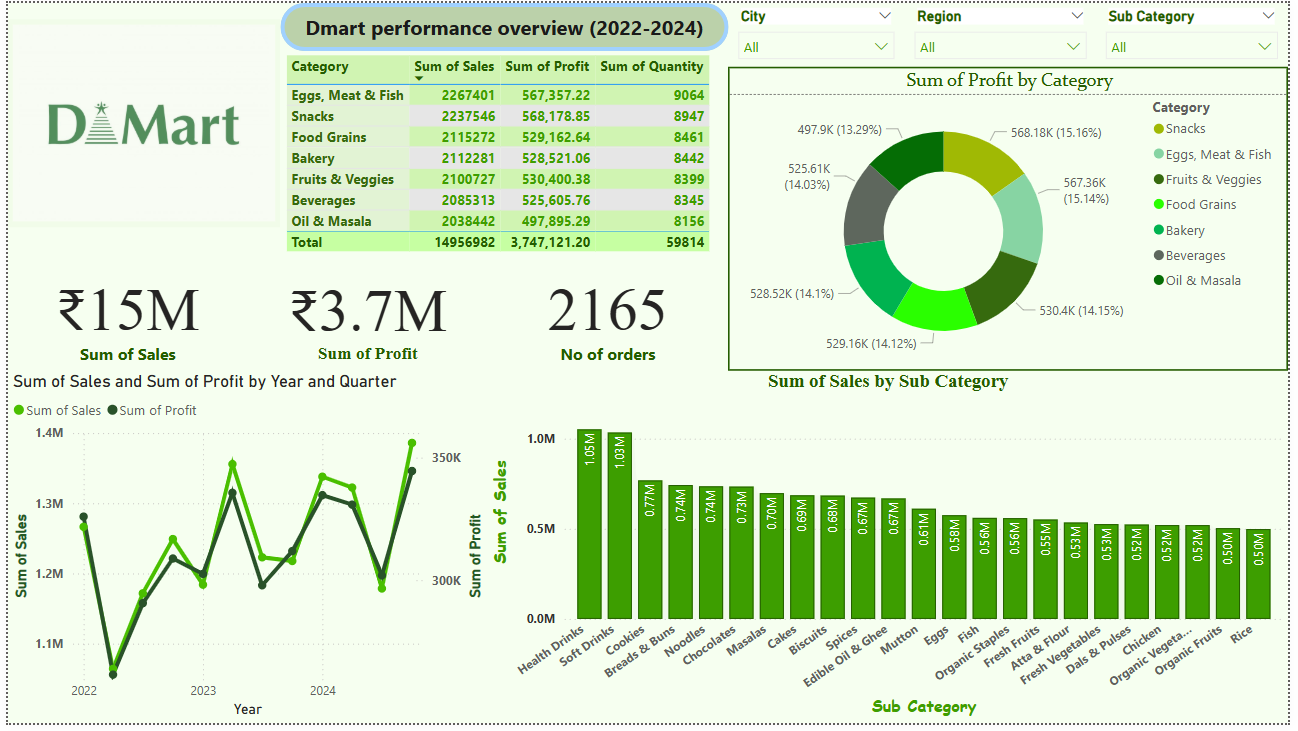

What the dashboard file says about the page in this screenshot:
{"tool":"powerbi","page":{"name":"Page 1","canvas":[1280,720],"ordinal":0},"visuals":[{"type":"donutChart","fields":{"Category":["Dmart_Retail_Sales.Category"],"Y":["Sum(Dmart_Retail_Sales.Profit)"]},"box":[720,64,560,304],"z":0},{"type":"card","fields":{"Values":["Sum(Dmart_Retail_Sales.Profit)"]},"box":[240,256,240,112],"z":1000},{"type":"card","fields":{"Values":["Sum(Dmart_Retail_Sales.Sales)"]},"box":[0,256,240,112],"z":2000},{"type":"columnChart","fields":{"Category":["Dmart_Retail_Sales.Sub Category"],"Y":["Sum(Dmart_Retail_Sales.Sales)"]},"box":[480,368,800,352],"z":3000},{"type":"card","fields":{"Values":["Dmart_Retail_Sales.No of customers"]},"box":[480,256,240,112],"z":4000},{"type":"tableEx","fields":{"Values":["Dmart_Retail_Sales.Category","Sum(Dmart_Retail_Sales.Sales)","Sum(Dmart_Retail_Sales.Profit)","Sum(Dmart_Retail_Sales.Quantity)"]},"box":[272,48,448,208],"z":5000},{"type":"slicer","fields":{"Values":["Dmart_Retail_Sales.Region"]},"box":[896,0,192,64],"z":6000},{"type":"lineChart","fields":{"Y":["Sum(Dmart_Retail_Sales.Sales)"],"Y2":["Sum(Dmart_Retail_Sales.Profit)"],"Category":["Dmart_Retail_Sales.Order Date.Variation.Date Hierarchy.Year","Dmart_Retail_Sales.Order Date.Variation.Date Hierarchy.Quarter","Dmart_Retail_Sales.Order Date.Variation.Date Hierarchy.Month","Dmart_Retail_Sales.Order Date.Variation.Date Hierarchy.Day"]},"box":[0,368,480,352],"z":7000},{"type":"slicer","fields":{"Values":["Dmart_Retail_Sales.Sub Category"]},"box":[1088,0,192,64],"z":8000},{"type":"slicer","fields":{"Values":["Dmart_Retail_Sales.City"]},"box":[720,0,176,64],"z":9000},{"type":"shape","box":[272,0,448,48],"z":10000},{"type":"image","box":[0,0,272,240],"z":11000},{"type":"shape","box":[0,16,272,208],"z":12000}]}

Visuals, with their boxes in screenshot pixels (x1, y1, x2, y2), scaled from the page's 1280x720 canvas onto the 1298x731 screenshot:
donutChart - Dmart_Retail_Sales.Category x Sum(Dmart_Retail_Sales.Profit): 730:65:1297:374
card - Sum(Dmart_Retail_Sales.Profit): 243:260:487:374
card - Sum(Dmart_Retail_Sales.Sales): 0:260:243:374
columnChart - Dmart_Retail_Sales.Sub Category x Sum(Dmart_Retail_Sales.Sales): 487:374:1297:730
card - Dmart_Retail_Sales.No of customers: 487:260:730:374
tableEx - Dmart_Retail_Sales.Category x Sum(Dmart_Retail_Sales.Sales): 276:49:730:260
slicer - Dmart_Retail_Sales.Region: 909:0:1103:65
lineChart - Sum(Dmart_Retail_Sales.Sales) x Sum(Dmart_Retail_Sales.Profit): 0:374:487:730
slicer - Dmart_Retail_Sales.Sub Category: 1103:0:1297:65
slicer - Dmart_Retail_Sales.City: 730:0:909:65
shape: 276:0:730:49
image: 0:0:276:244
shape: 0:16:276:227
